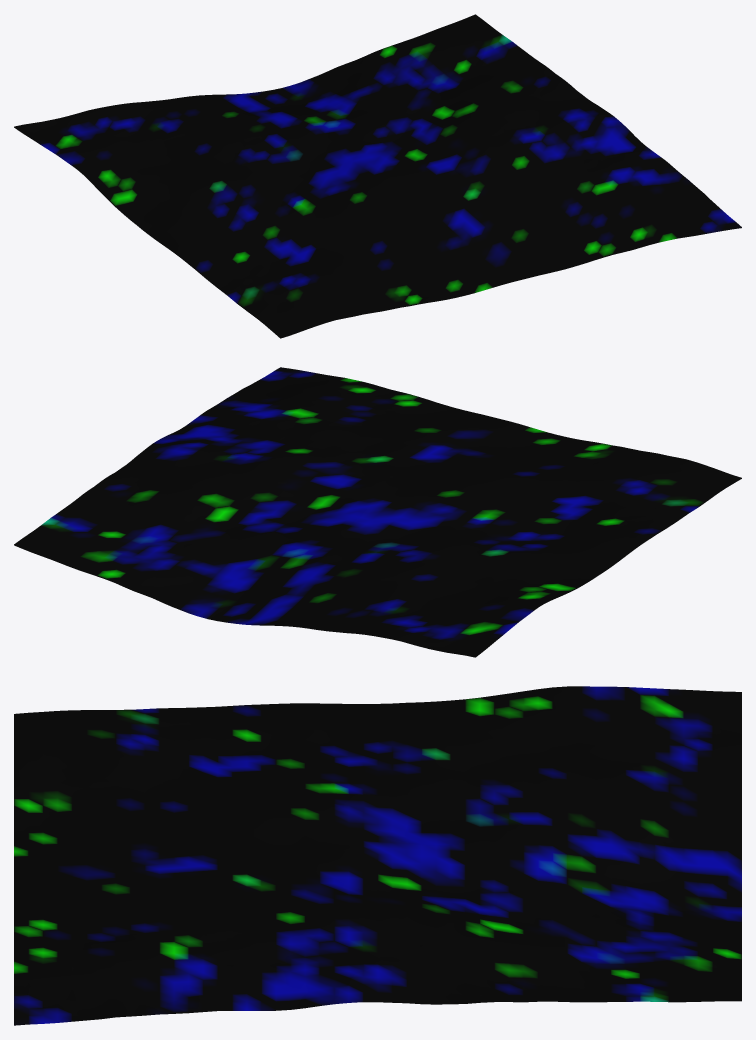
The model's file is coast_1600_-2400_800.glb.
The picture shows the model from 3 angles, top to bottom: view 1: azimuth 30°, elevation 25°; view 2: azimuth 150°, elevation 25°; view 3: azimuth 270°, elevation 25°; orthographic projection. The views are drawn at different scales.
Visible parts, largest first — view 1: terrain; view 2: terrain; view 3: terrain.
Boxes of the visible parts, x1,y1,x2,y2 form: terrain: (14,14,741,338); terrain: (14,367,741,657); terrain: (14,686,741,1025).
Bounding box in the file's own units: 800 × 54.38 × 800.
